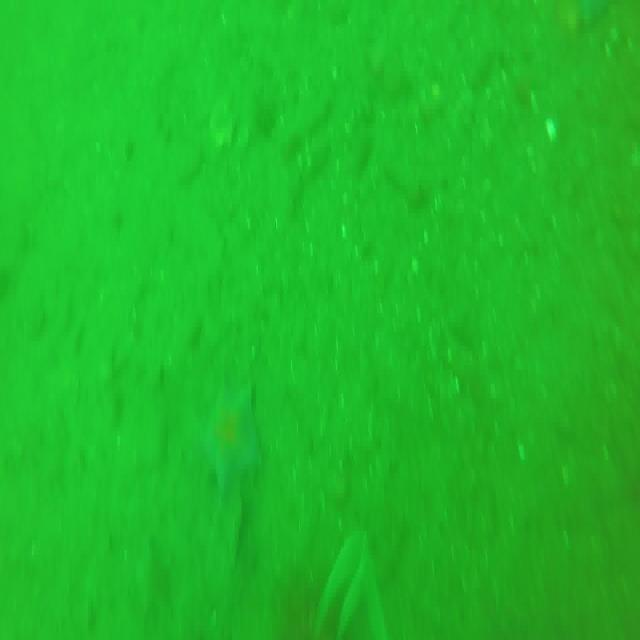starfish: (196, 392, 261, 495)
